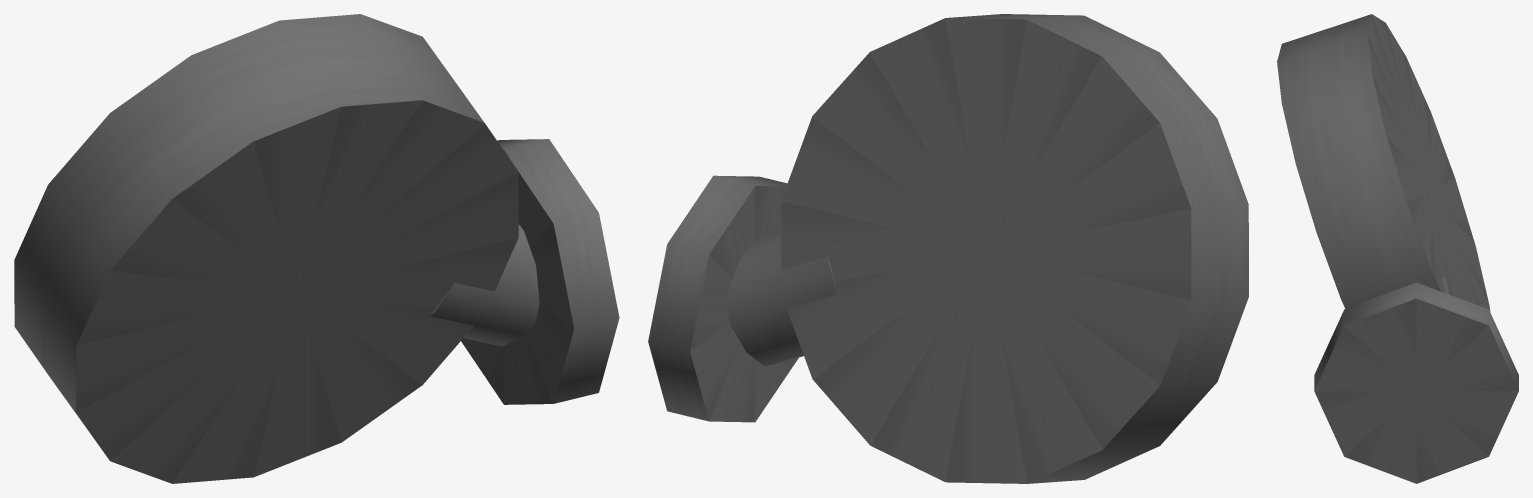
Rendered from mastarmcurve_5x1_c0_east.obj.
The picture shows the model from 3 angles, left to right: view 1: azimuth 30°, elevation 25°; view 2: azimuth 150°, elevation 25°; view 3: azimuth 270°, elevation 25°; orthographic projection. The views are drawn at different scales.
Parts seen in each view (by area): view 1: mastarm_5x1_c0_east; view 2: mastarm_5x1_c0_east; view 3: mastarm_5x1_c0_east.
Boxes of the visible parts, <box> form: mastarm_5x1_c0_east: <box>14,14,619,483</box>; mastarm_5x1_c0_east: <box>648,14,1248,483</box>; mastarm_5x1_c0_east: <box>1277,14,1518,483</box>.
Bounding box in the file's own units: 0.8626 × 0.7468 × 0.4728.
